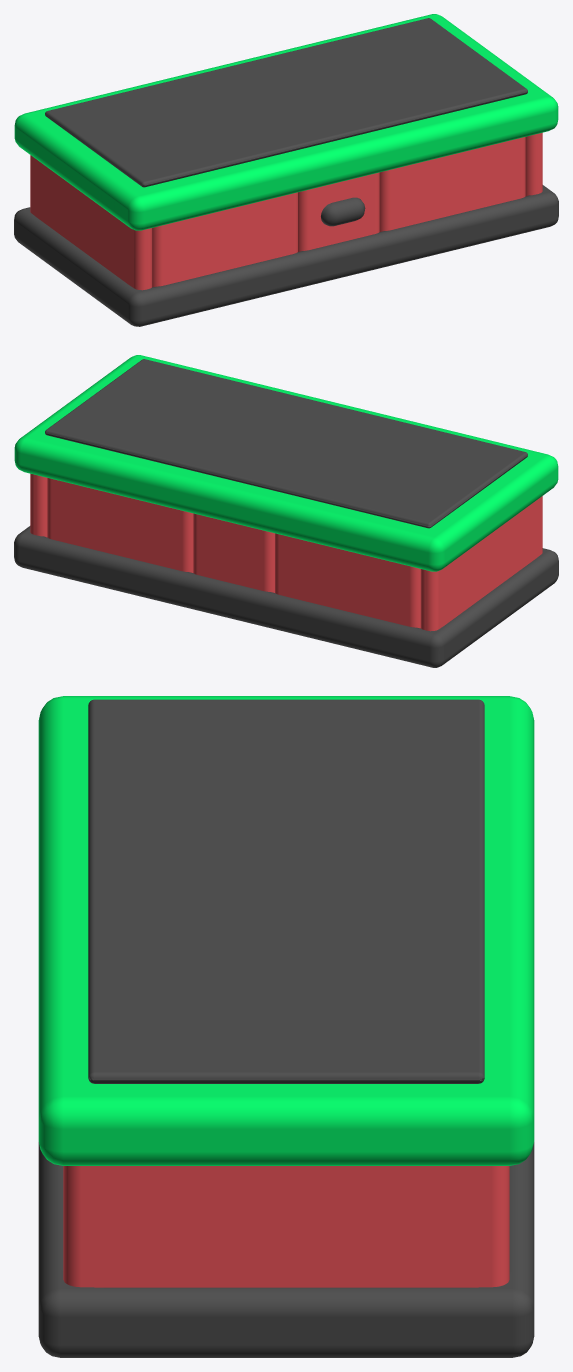
The model's file is DeliveryStation.fbx.
3 renders of one model, top to bottom at view 1: azimuth 30°, elevation 25°; view 2: azimuth 150°, elevation 25°; view 3: azimuth 270°, elevation 25°, orthographic. The views are drawn at different scales.
Parts seen in each view (by area): view 1: DeliveryStation; view 2: DeliveryStation; view 3: DeliveryStation.
Boxes of the visible parts, x1,y1,x2,y2 form: DeliveryStation: (14, 14, 558, 326); DeliveryStation: (14, 355, 558, 667); DeliveryStation: (38, 696, 534, 1357).
Bounding box in the file's own units: 400 × 120 × 200.
